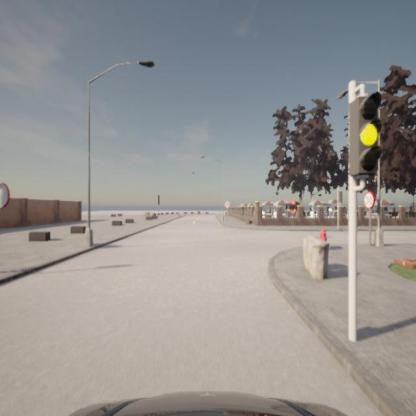traffic_light_orange: (351, 96, 381, 175)
traffic_sign_30: (364, 190, 374, 209)
